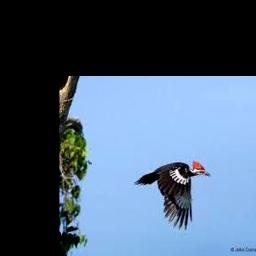Woodpecker: (134, 160, 211, 230)
